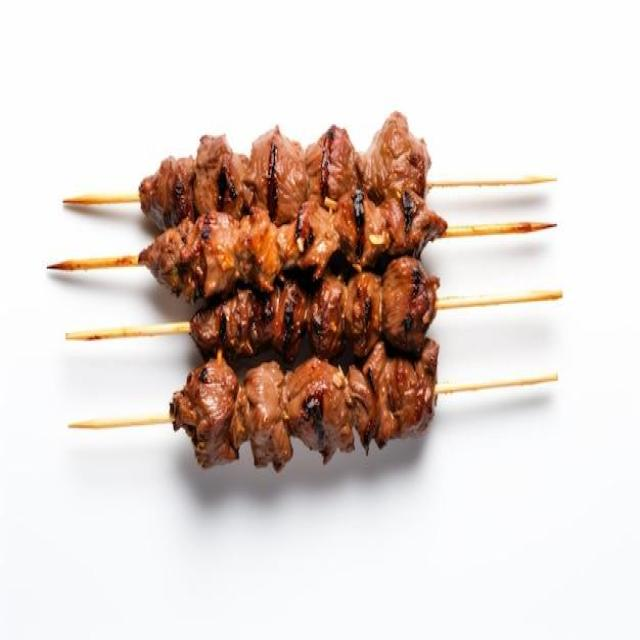Sate: (82, 110, 572, 492)
